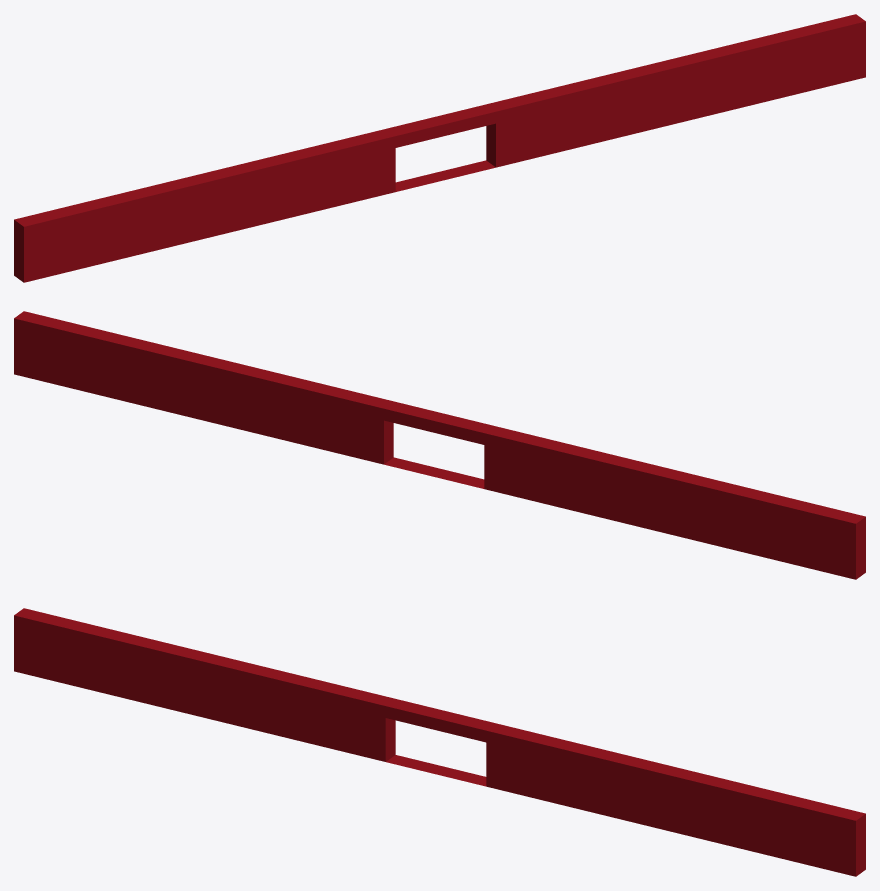
The model's file is RedBase.fbx.
3 views of the same model, one above another, from view 1: azimuth 30°, elevation 25°; view 2: azimuth 150°, elevation 25°; view 3: azimuth 330°, elevation 25° (orthographic).
Visible parts, largest first — view 1: RedBase; view 2: RedBase; view 3: RedBase.
Part boxes in pixels (left/top/right/bottom): RedBase: left=14, top=14, right=865, bottom=282; RedBase: left=14, top=311, right=865, bottom=579; RedBase: left=14, top=608, right=865, bottom=876.
Bounding box in the file's own units: 84803 × 5388 × 1736.
